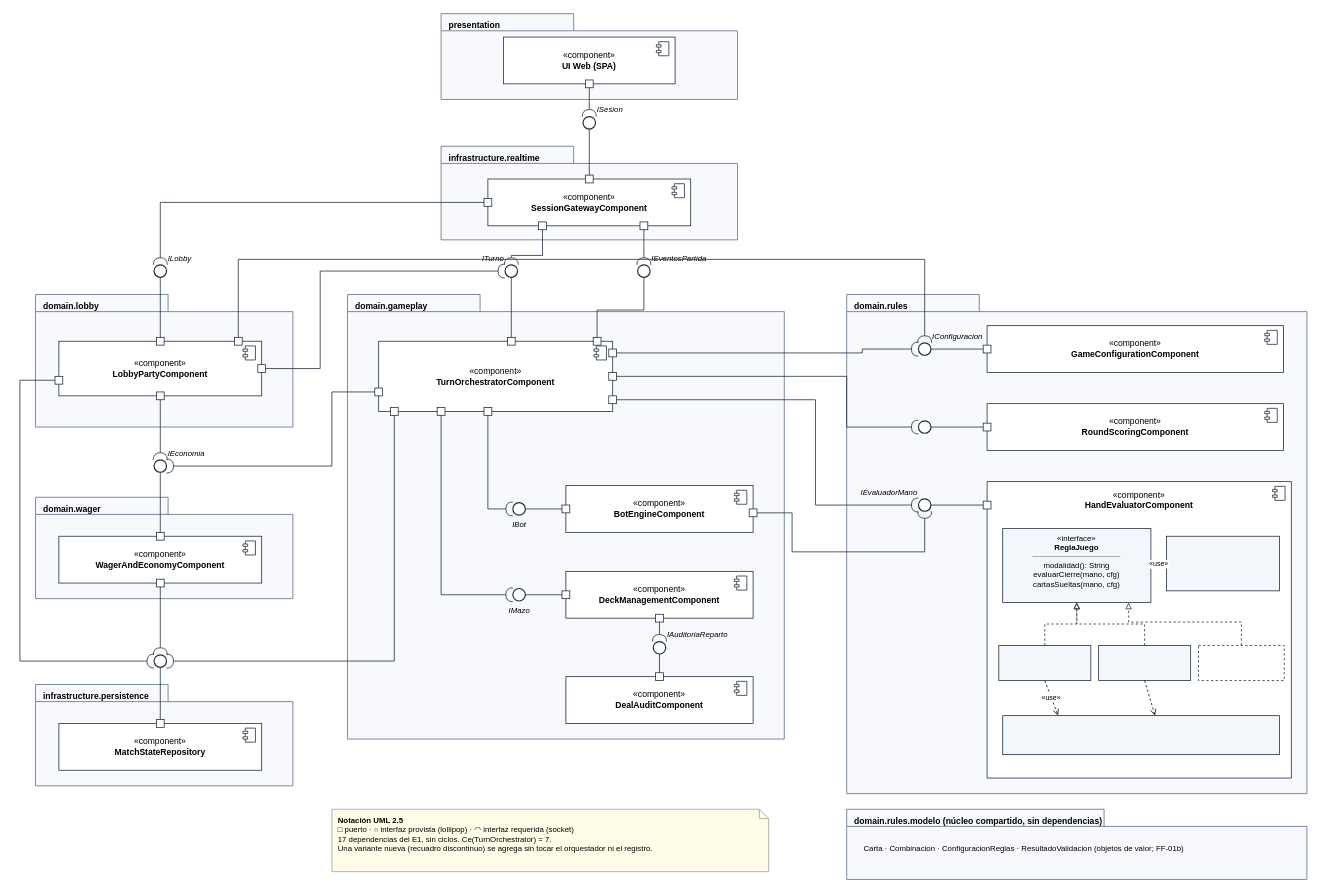
The diagram is 1321 pixels wide and 893 high, and some of its shapes have lost their labels. Each missing label, with the centre of its shape:
BuscadorCombinaciones máscaras de bits + programación dinámica (CC ≤ 10): the point at 1141,735
ILiquidacion: the point at 924,427
IMatchState: the point at 160,661
RegistroReglas ServiceLoader<ReglaJuego> obtener(modalidad): the point at 1223,563
«plug-in» nueva variante (p. ej. Continental): the point at 1241,663
«plug-in» ReglaApuntado101: the point at 1044,663
«plug-in» ReglaClasica CuartaTerna: the point at 1144,663
